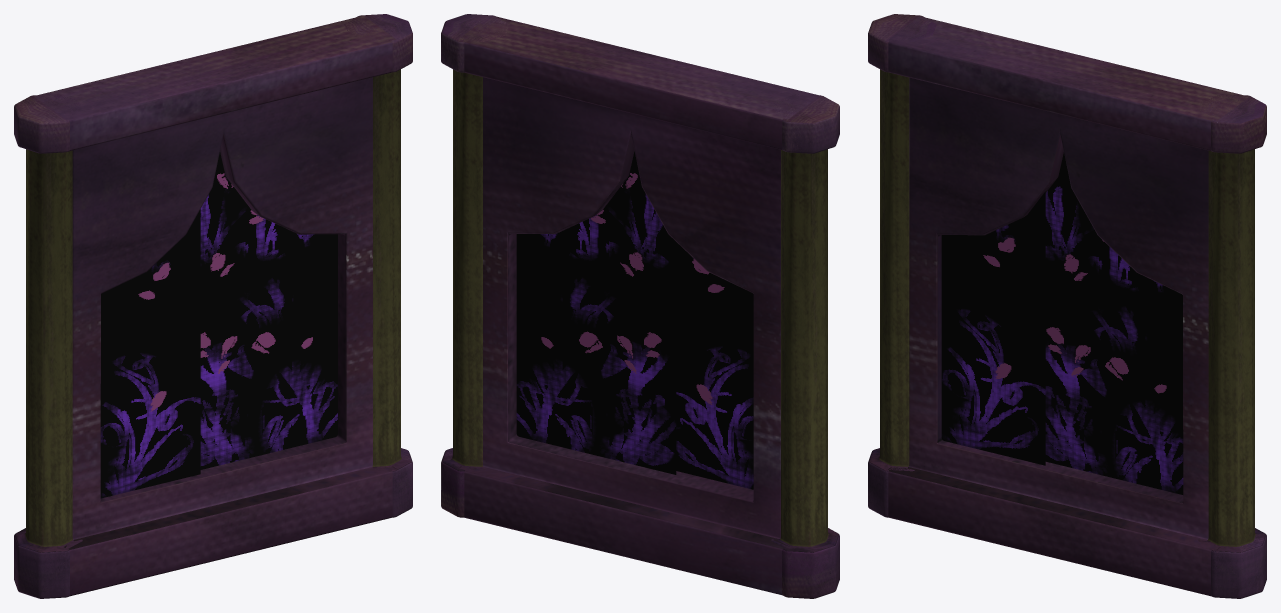
The model's file is MANOR_WINDOW_2.obj.
3 views of the same model, side by side, from view 1: azimuth 30°, elevation 25°; view 2: azimuth 150°, elevation 25°; view 3: azimuth 330°, elevation 25° (orthographic).
Parts seen in each view (by area): view 1: MANOR_WINDOW_2.003; view 2: MANOR_WINDOW_2.003; view 3: MANOR_WINDOW_2.003.
Part boxes in pixels (x1,y1,x2,y2): MANOR_WINDOW_2.003: (14, 14, 412, 598); MANOR_WINDOW_2.003: (441, 14, 839, 598); MANOR_WINDOW_2.003: (868, 14, 1266, 598).
Bounding box in the file's own units: 2.57 × 3 × 0.4135.
